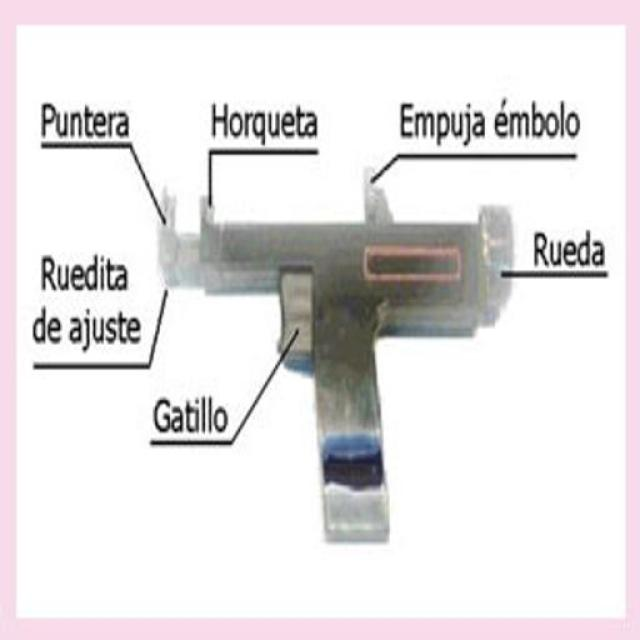pistol: (153, 189, 528, 548)
